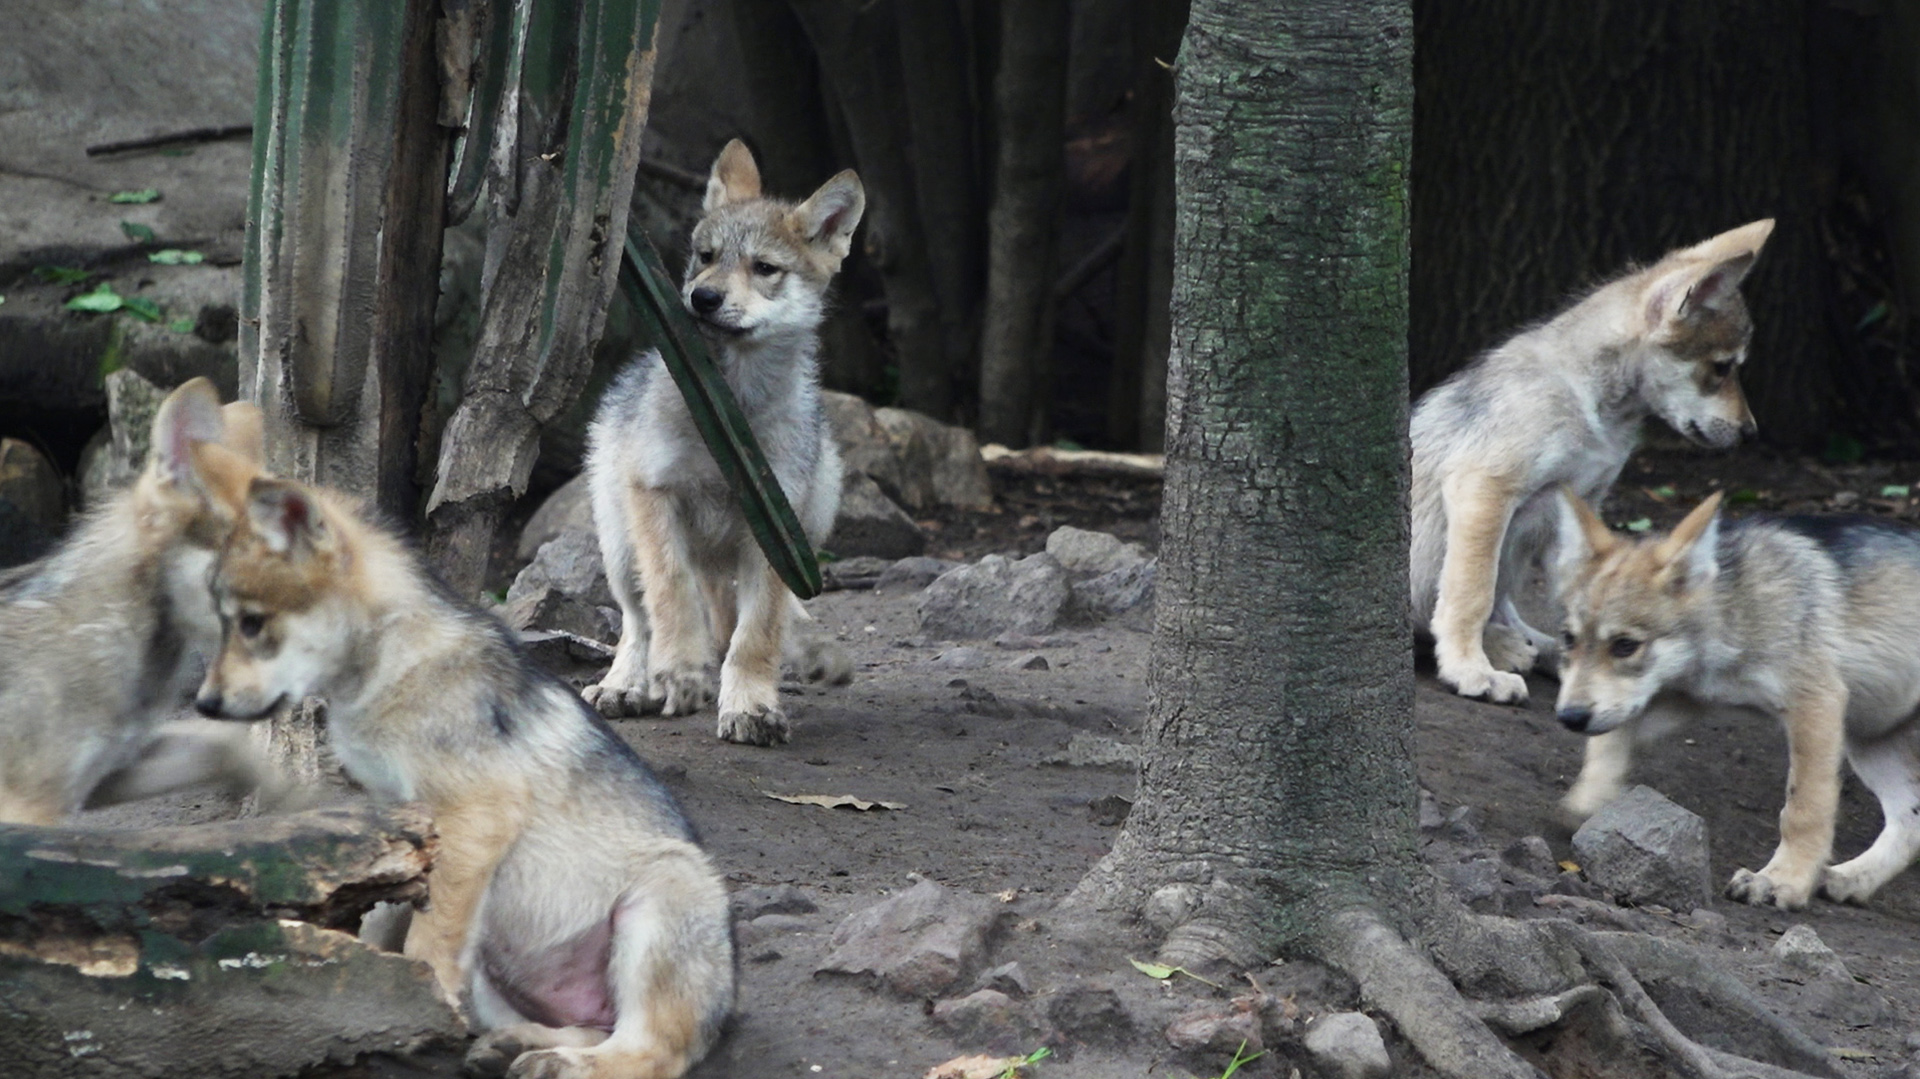Lobo: (162, 447, 715, 1028), (582, 121, 884, 749), (1528, 474, 1873, 869), (1444, 169, 1764, 528)
